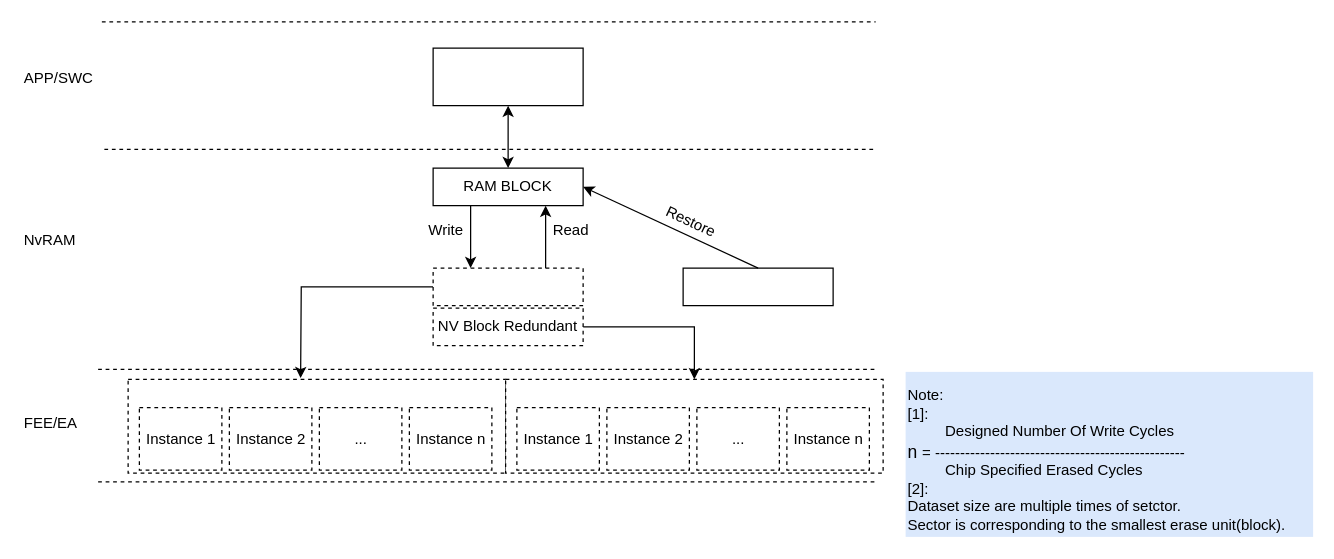
Image size: 1334x559. Some labels were removed from this diagram. The box of each missing label's shape, as (x1, y1, x2, y2) in pixels:
DataSet1: (127, 378, 506, 473)
DataSet2: (504, 378, 883, 473)
NV Block: (432, 267, 583, 306)
NVM User: (432, 47, 583, 106)
ROM BLOCK: (682, 267, 833, 306)
